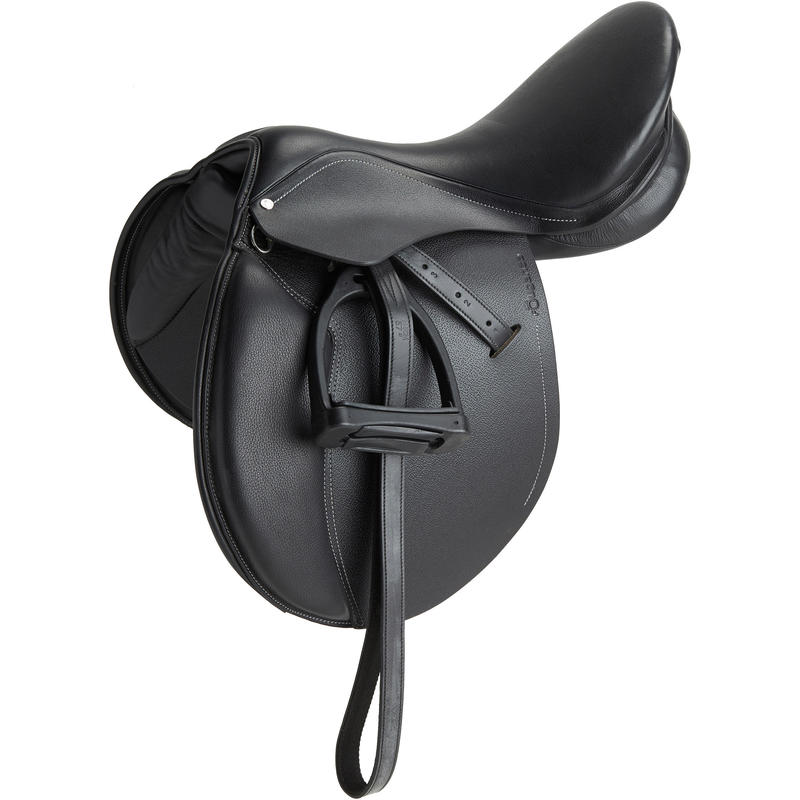saddle: (80, 13, 747, 663)
